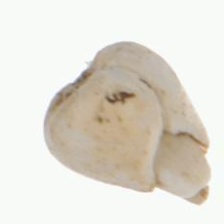L3: (149, 129, 211, 205)
L4: (43, 40, 211, 205)
